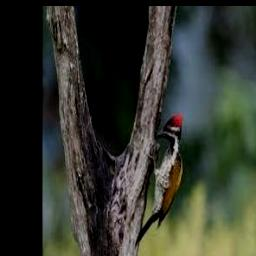Woodpecker: (135, 115, 182, 244)
